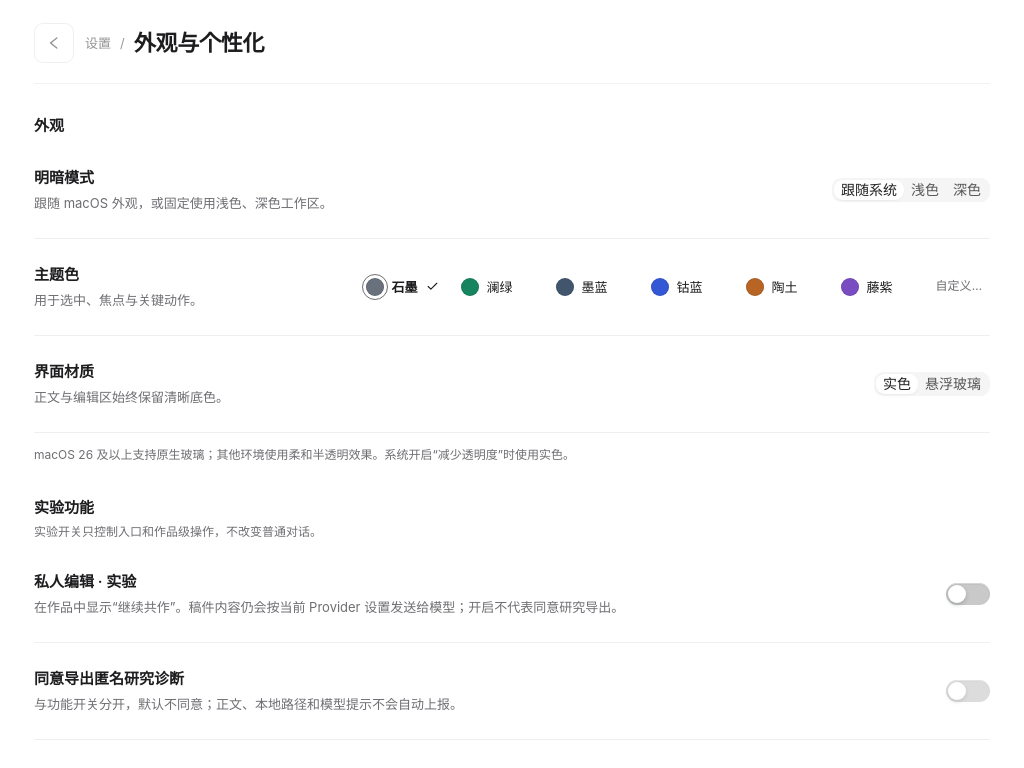
it: InnovationLabSettingsPage › keeps private editor and research consent off until each is explicitly enabled
The width and height of the screenshot is (1024, 768).
Expected: the switch named "同意导出匿名研究诊断" is not checked, x1=946 y1=680 x2=990 y2=702
Expected: the switch named "同意导出匿名研究诊断" is disabled, x1=946 y1=680 x2=990 y2=702
Click the switch named "启用私人编辑实验" at {"x": 968, "y": 594}, box x1=946 y1=583 x2=990 y2=605
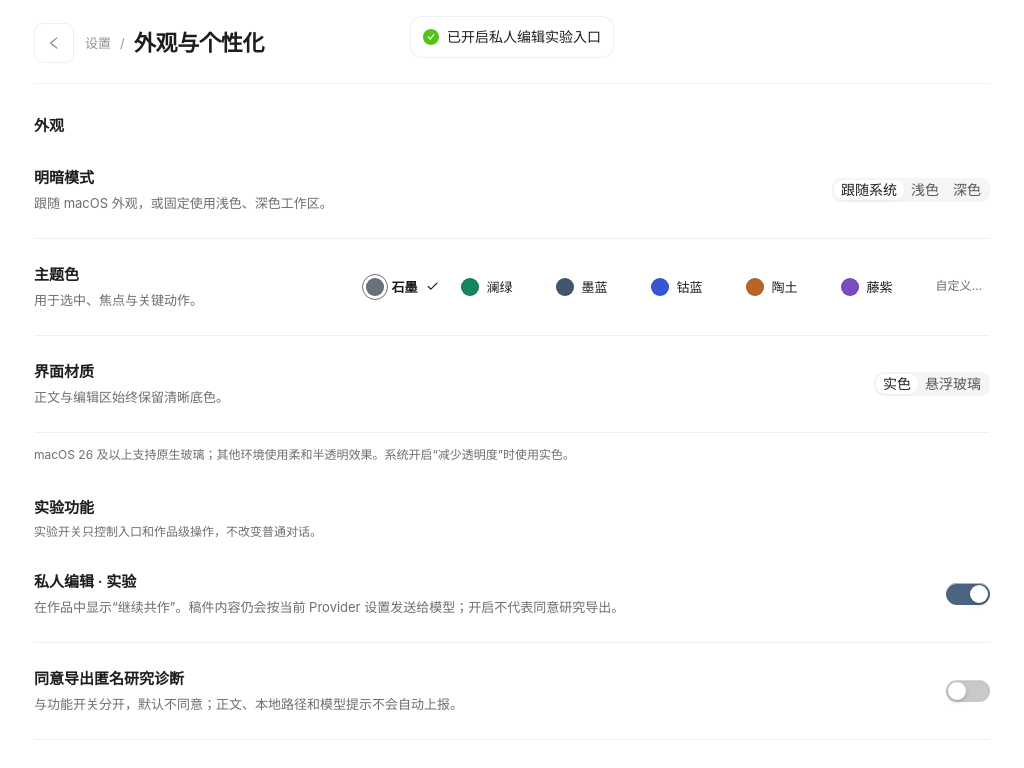
Expected: the text "在作品中显示“继续共作”。稿件内容仍会按当前 Provider 设置发送给模型；开启不代表同意研究导出。" is shown, x1=34 y1=599 x2=624 y2=615
Result: the switch named "同意导出匿名研究诊断" is enabled at x1=946 y1=680 x2=990 y2=702
